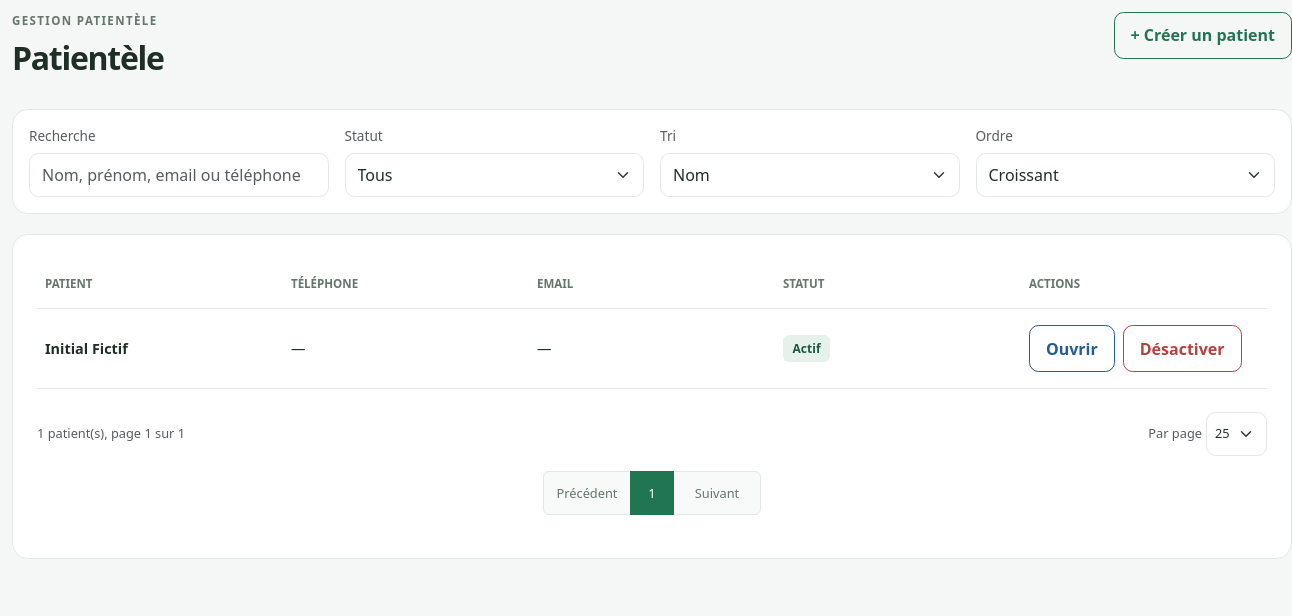
Test: une réponse ancienne ne remplace pas les résultats de la nouvelle recherche
The image size is (1292, 616).
Step 1. Type "ancien" into the search field → (179, 175), box [29,153,328,197]
Wait 300 ms
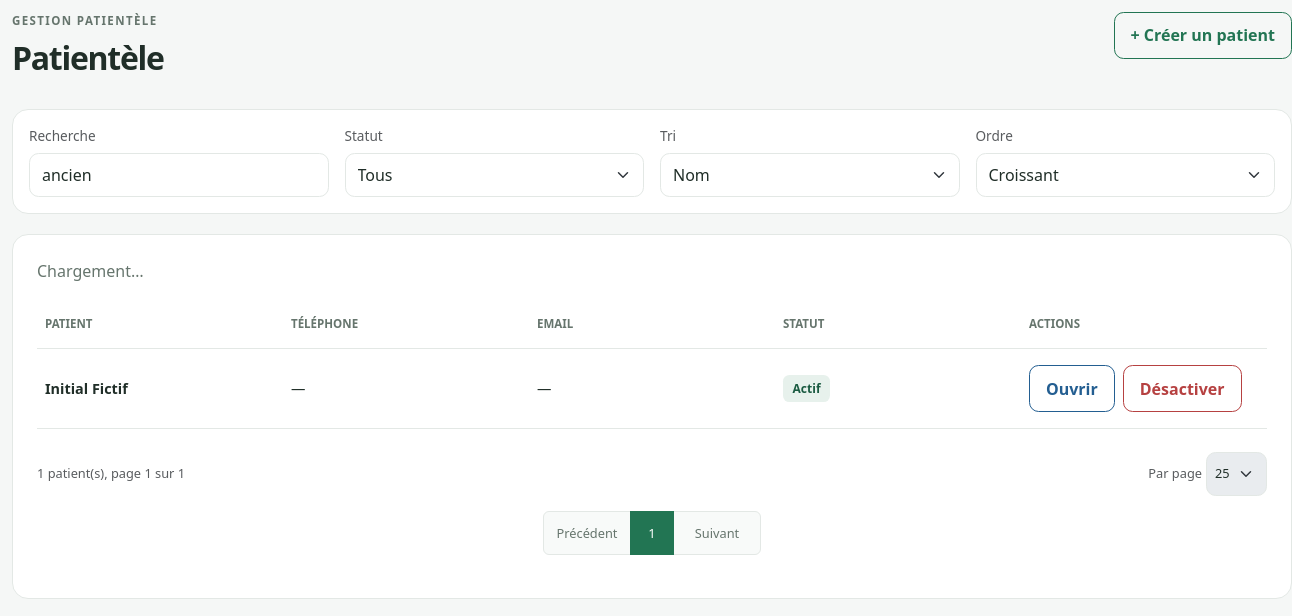
Step 2. Replace the text in the search field with "nouveau" → (179, 175), box [29,153,328,197]
Wait 300 ms
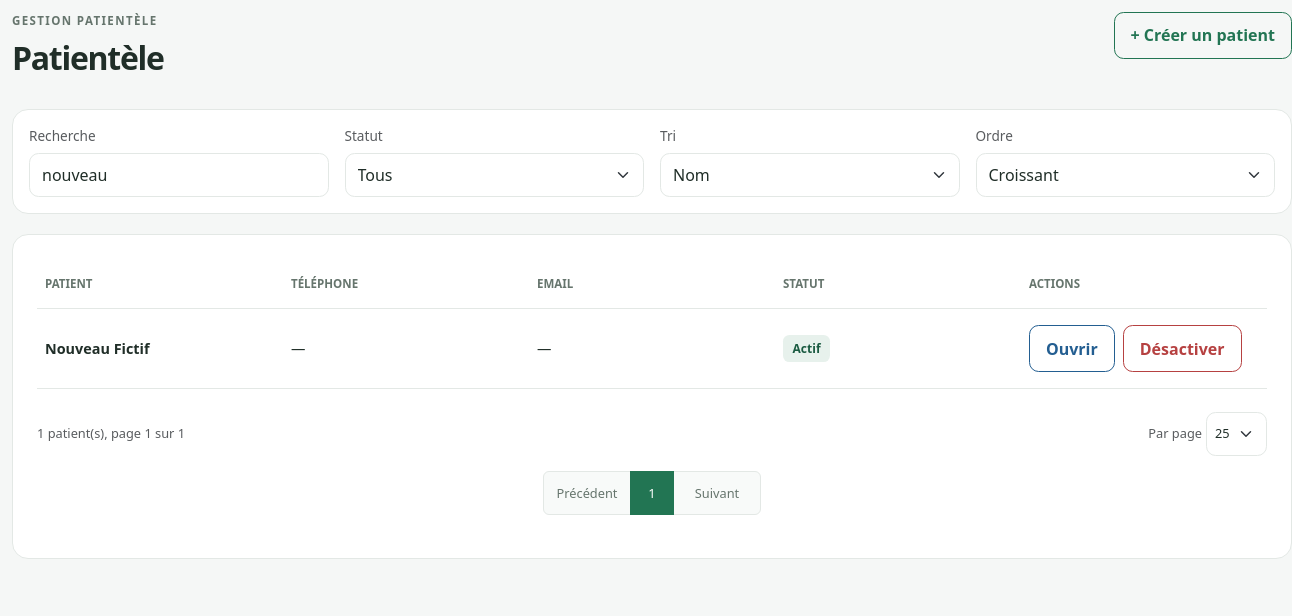
expect the text "Nouveau Fictif" is shown: met, box [45,339,150,358]
